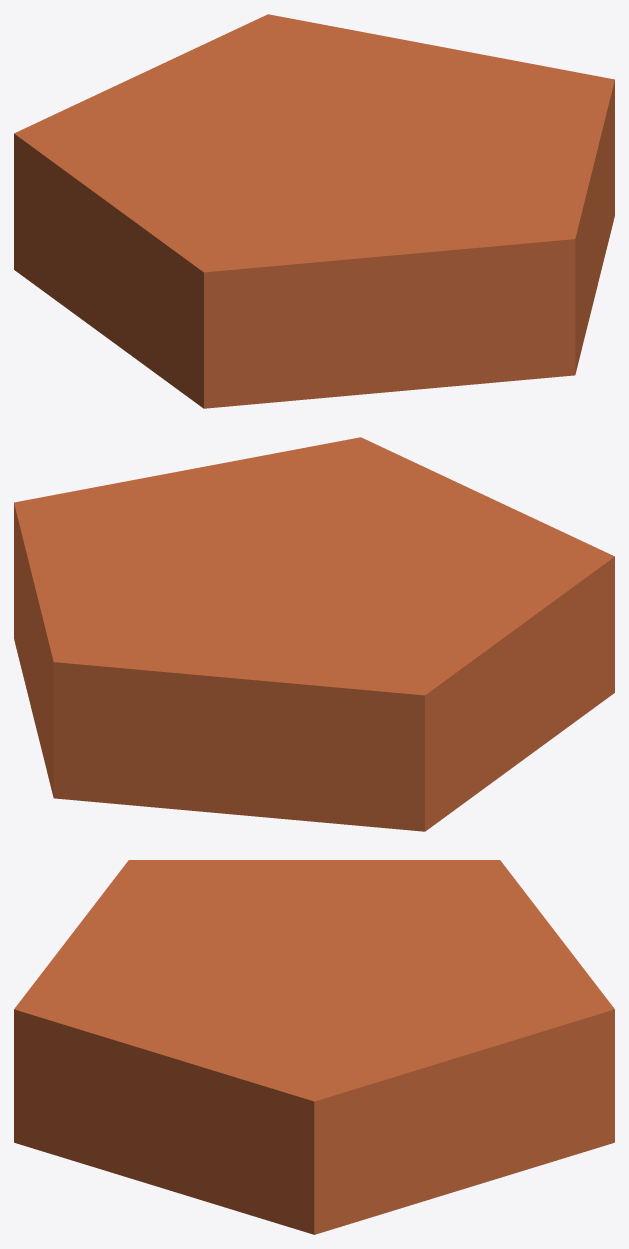
The model's file is LavaCube.fbx.
The picture shows the model from 3 angles, top to bottom: view 1: azimuth 30°, elevation 25°; view 2: azimuth 150°, elevation 25°; view 3: azimuth 270°, elevation 25°; orthographic projection. The views are drawn at different scales.
Parts seen in each view (by area): view 1: ice; view 2: ice; view 3: ice.
Part boxes in pixels (x1,y1,x2,y2): ice: [14, 14, 614, 408]; ice: [14, 437, 614, 831]; ice: [14, 860, 614, 1234].
Size of the model in its own units: 90.45 by 23.28 by 95.11.
